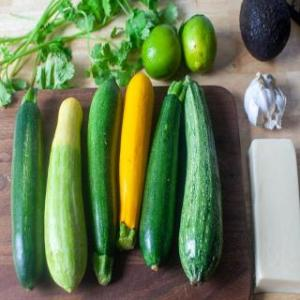zucchini: (12, 100, 50, 288)
